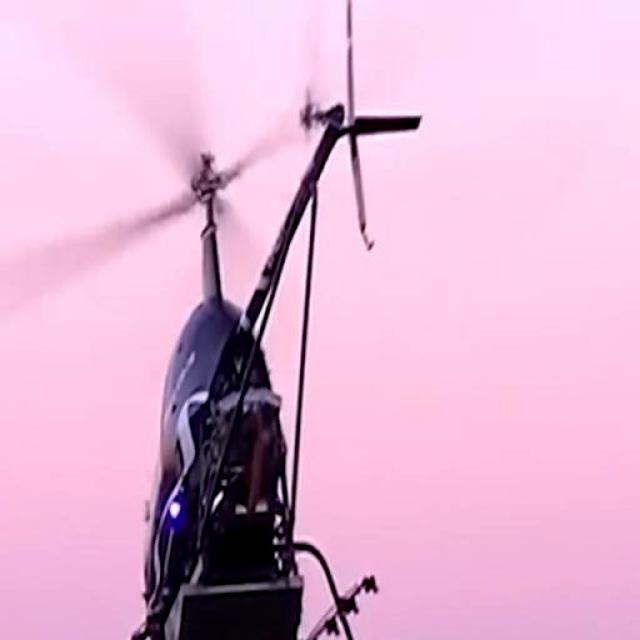drone: (0, 0, 431, 640)
